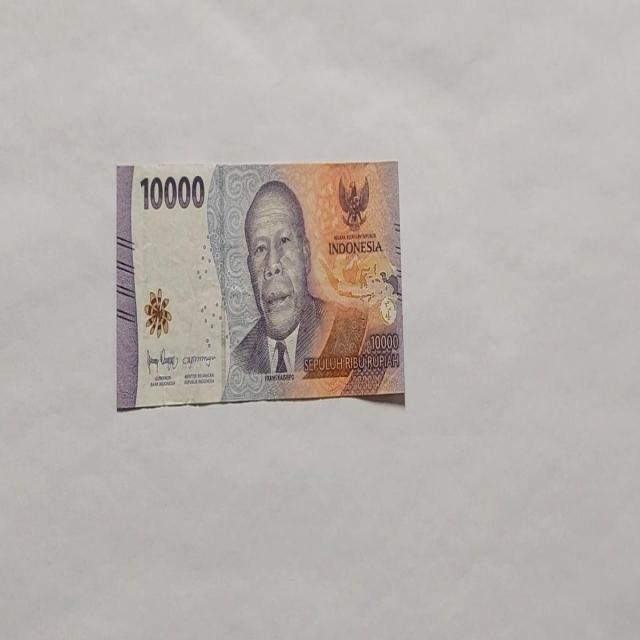Kertas: (116, 158, 405, 411), (139, 172, 205, 212)
